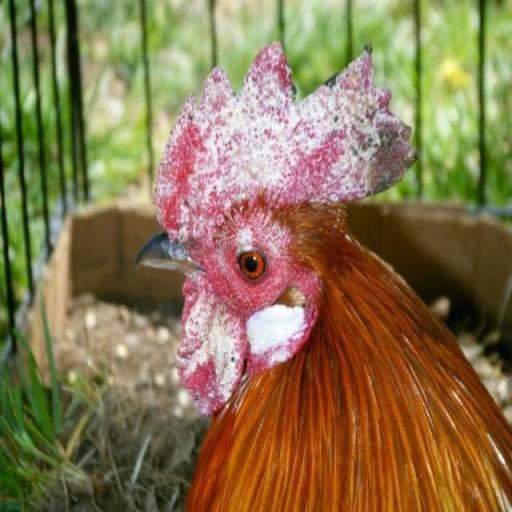disease: (204, 38, 429, 218), (140, 84, 275, 243), (156, 252, 252, 434)
